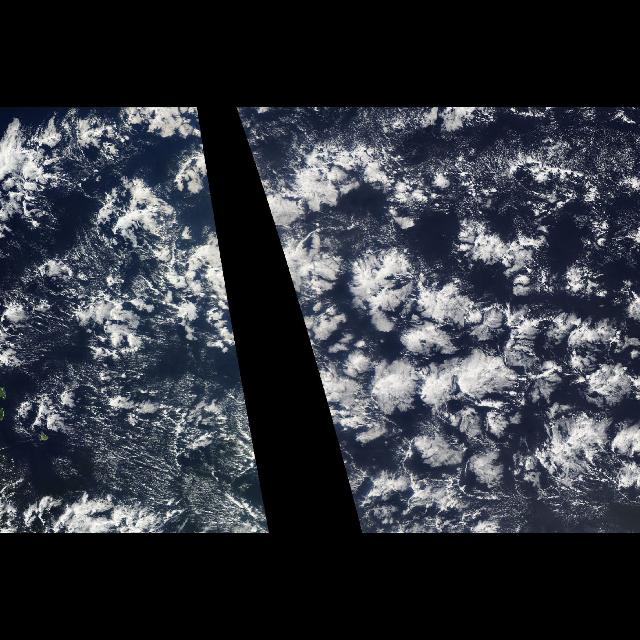Flower: (242, 131, 640, 509), (207, 171, 263, 497)
Gravel: (41, 356, 266, 532)
Sugar: (394, 125, 636, 195)
